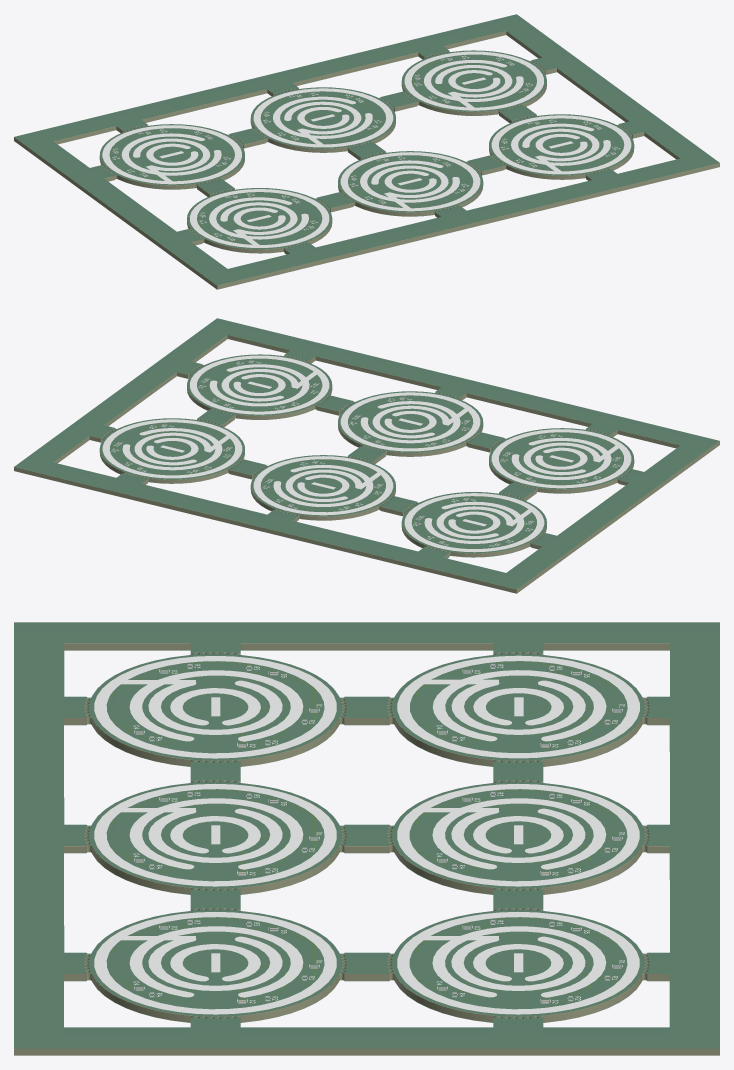
The model's file is the-pirates-plunder-rabbit-labs-def-con-33-badge.glb.
3 renders of one model, top to bottom at view 1: azimuth 30°, elevation 25°; view 2: azimuth 150°, elevation 25°; view 3: azimuth 270°, elevation 25°, orthographic. The views are drawn at different scales.
Visible parts, largest first — view 1: =>[0:1:1:7], =>[0:1:1:9], =>[0:1:1:5], =>[0:1:1:2]; view 2: =>[0:1:1:7], =>[0:1:1:9], =>[0:1:1:5], =>[0:1:1:2]; view 3: =>[0:1:1:7], =>[0:1:1:9], =>[0:1:1:5], =>[0:1:1:2].
Part boxes in pixels (x1,y1,x2,y2): =>[0:1:1:7]: [14, 14, 719, 288]; =>[0:1:1:9]: [14, 15, 719, 289]; =>[0:1:1:5]: [102, 51, 631, 247]; =>[0:1:1:2]: [113, 57, 619, 240]; =>[0:1:1:7]: [14, 318, 719, 592]; =>[0:1:1:9]: [14, 319, 719, 593]; =>[0:1:1:5]: [102, 355, 631, 552]; =>[0:1:1:2]: [112, 360, 620, 545]; =>[0:1:1:7]: [14, 622, 719, 1048]; =>[0:1:1:9]: [14, 623, 719, 1055]; =>[0:1:1:5]: [94, 655, 639, 1014]; =>[0:1:1:2]: [112, 663, 621, 1003].
Bounding box in the file's own units: 0.2012 × 0.00166 × 0.1408.
4 materials, 4 textured.
